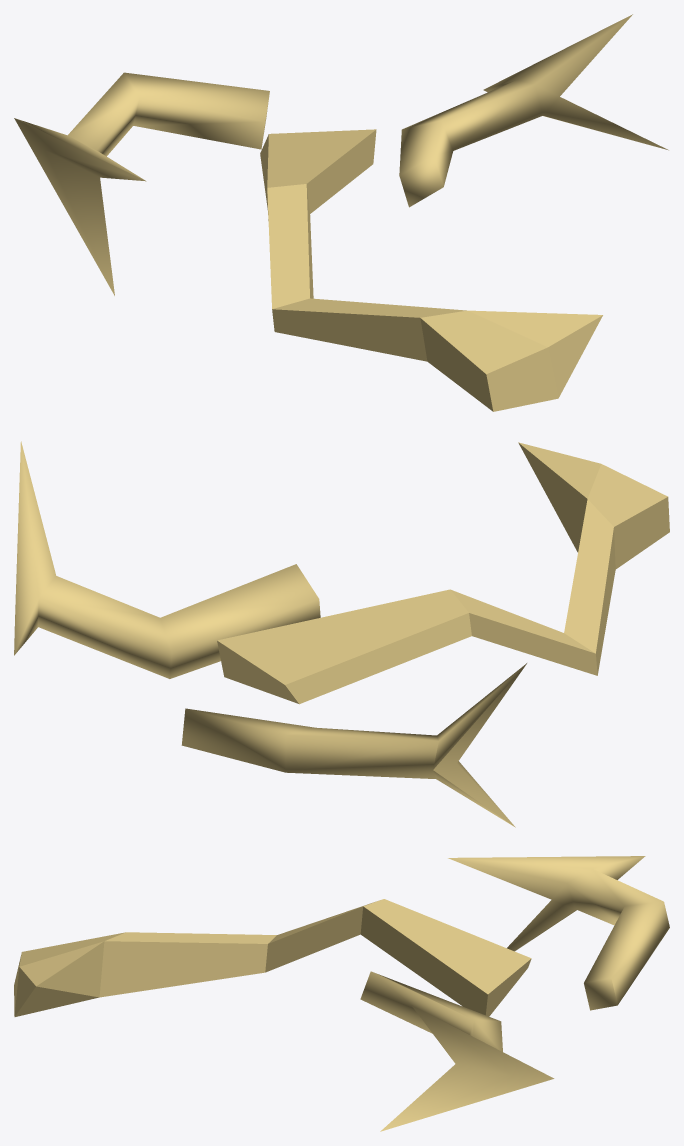
Rendered from chickenDeadRotten.glb.
3 renders of one model, top to bottom at view 1: azimuth 30°, elevation 25°; view 2: azimuth 150°, elevation 25°; view 3: azimuth 270°, elevation 25°, orthographic. The views are drawn at different scales.
Visible parts, largest first — view 1: Cube; view 2: Cube; view 3: Cube.
Boxes of the visible parts, x1=… form: Cube: x1=14, y1=14, x2=668, y2=411; Cube: x1=14, y1=441, x2=669, y2=827; Cube: x1=14, y1=856, x2=669, y2=1131.
Bounding box in the file's own units: 0.3316 × 0.1215 × 0.4017.
